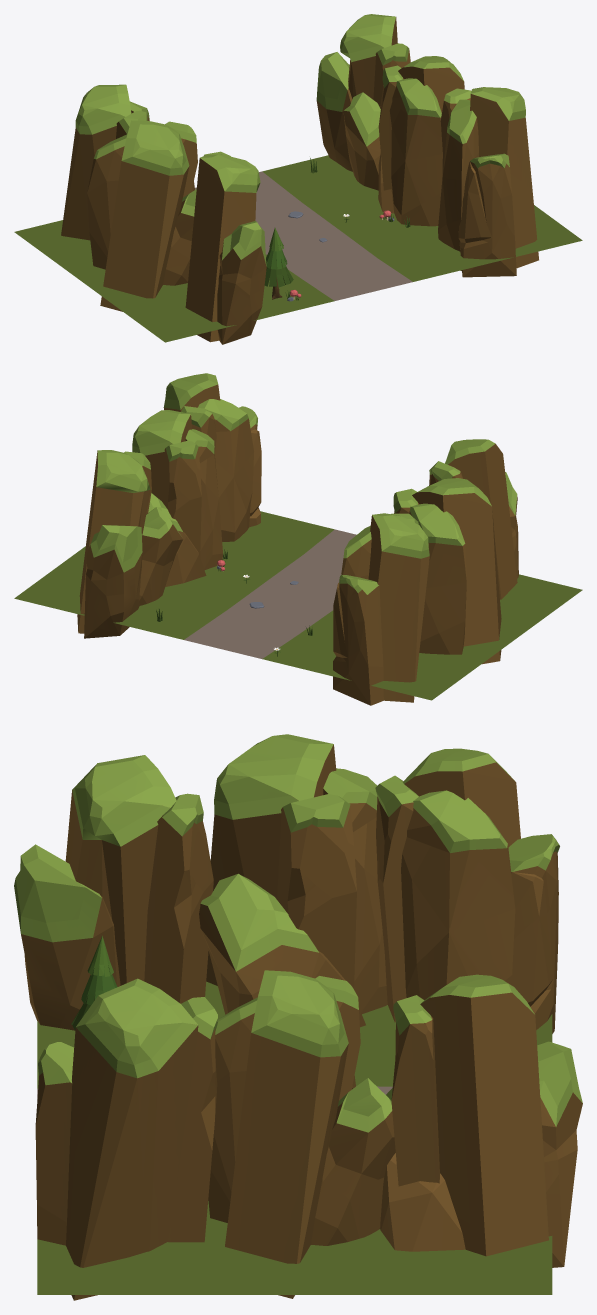
Rendered from RoadPart2.fbx.
The picture shows the model from 3 angles, top to bottom: view 1: azimuth 30°, elevation 25°; view 2: azimuth 150°, elevation 25°; view 3: azimuth 270°, elevation 25°; orthographic projection. The views are drawn at different scales.
Parts seen in each view (by area): view 1: RoadPart2; view 2: RoadPart2; view 3: RoadPart2.
Boxes of the visible parts, x1,y1,x2,y2 form: RoadPart2: (14,14,582,344); RoadPart2: (14,373,582,705); RoadPart2: (14,734,582,1300).
Bounding box in the file's own units: 3633 × 1383 × 2515.
